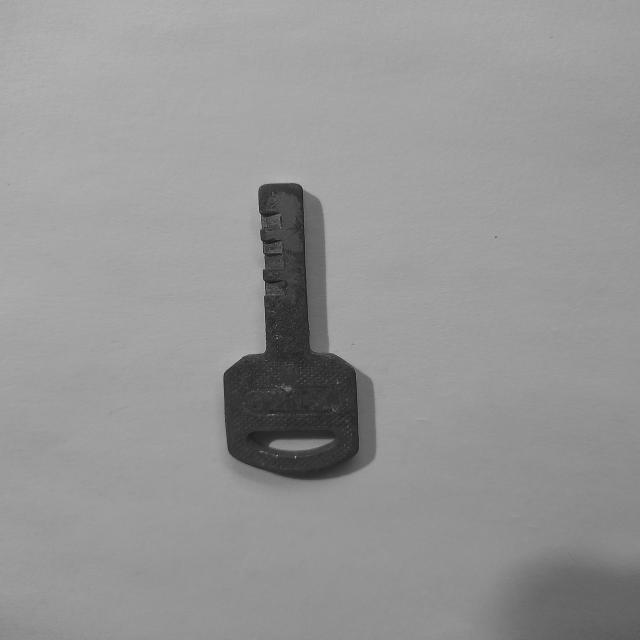key: (223, 183, 358, 474)
